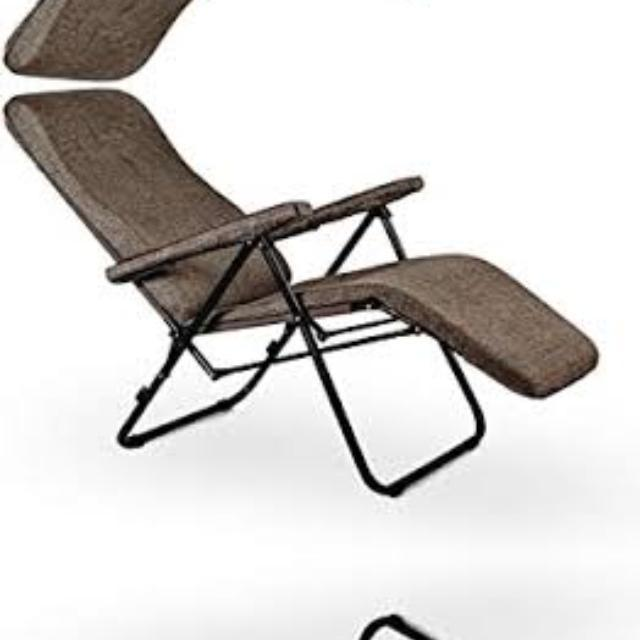obstacle: (4, 88, 604, 518), (4, 0, 604, 80), (4, 592, 604, 640)
